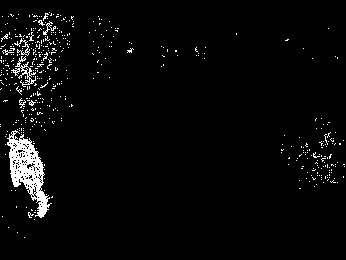person: (7, 129, 50, 218)
